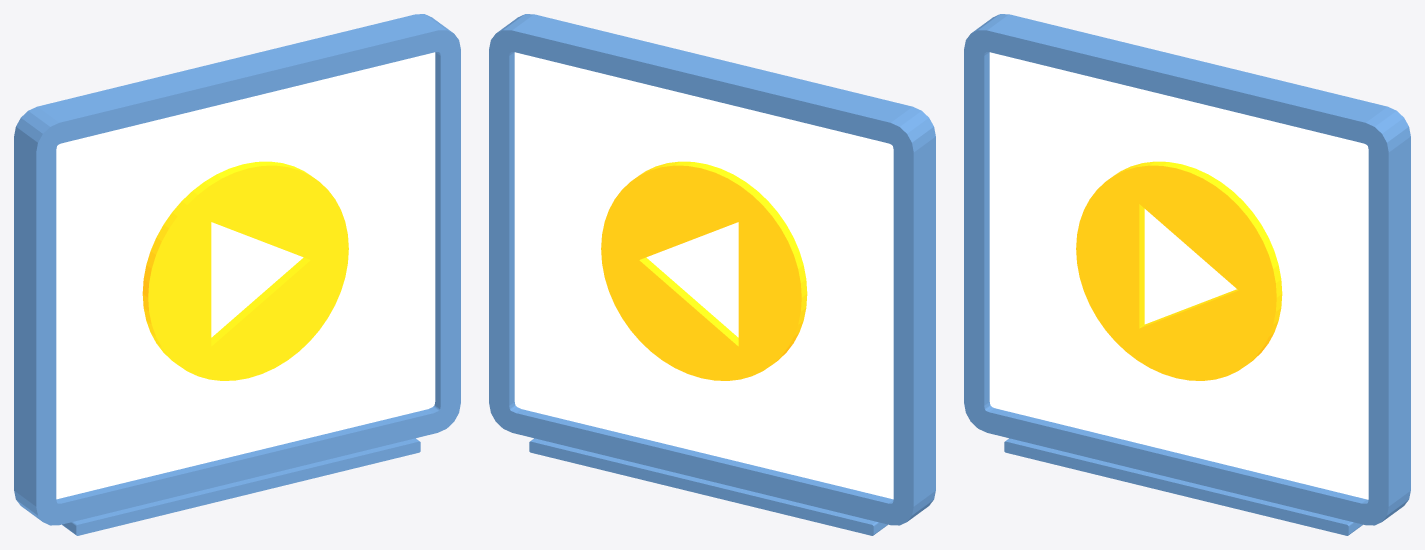
Rendered from l-icons-video-1.glb.
3 views of the same model, side by side, from view 1: azimuth 30°, elevation 25°; view 2: azimuth 150°, elevation 25°; view 3: azimuth 330°, elevation 25° (orthographic).
Parts seen in each view (by area): view 1: Icon_Video; view 2: Icon_Video; view 3: Icon_Video.
Part boxes in pixels (<box>): Icon_Video: <box>14,14,460,535</box>; Icon_Video: <box>489,14,935,535</box>; Icon_Video: <box>964,14,1410,535</box>.
Size of the model in its own units: 0.5541 by 0.5207 by 0.05.
